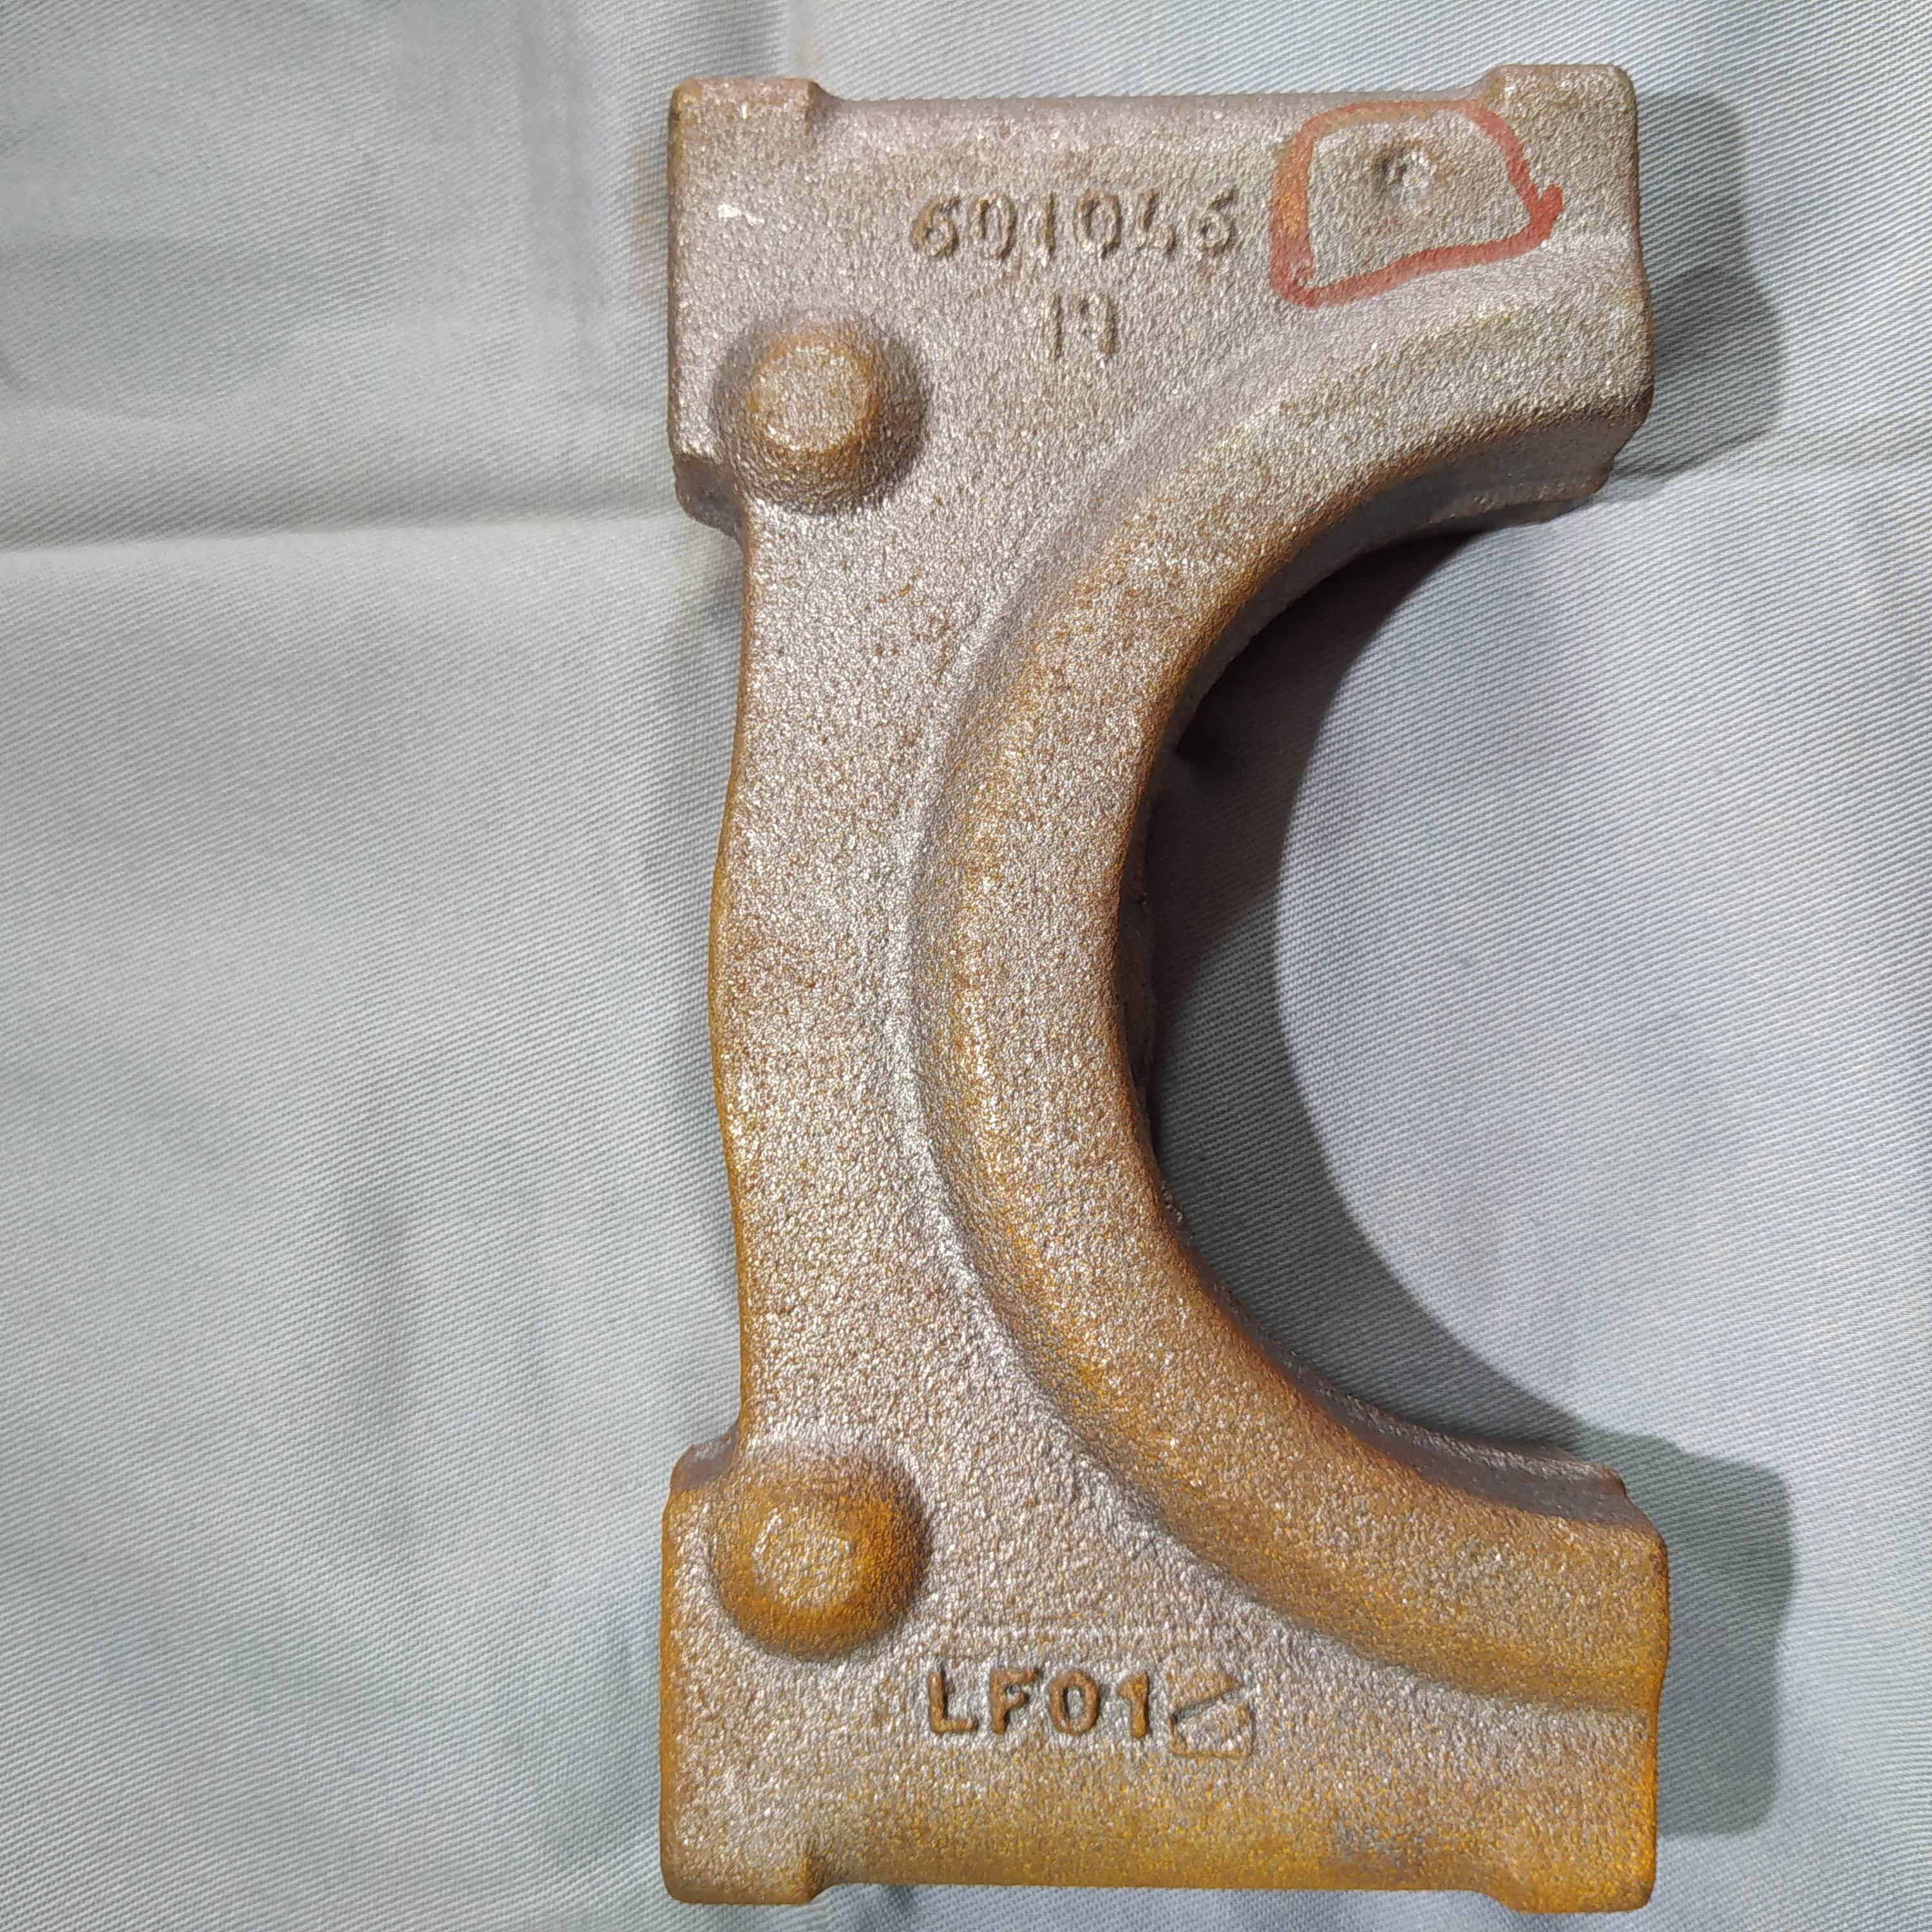buraco: (1368, 136, 1449, 212)
